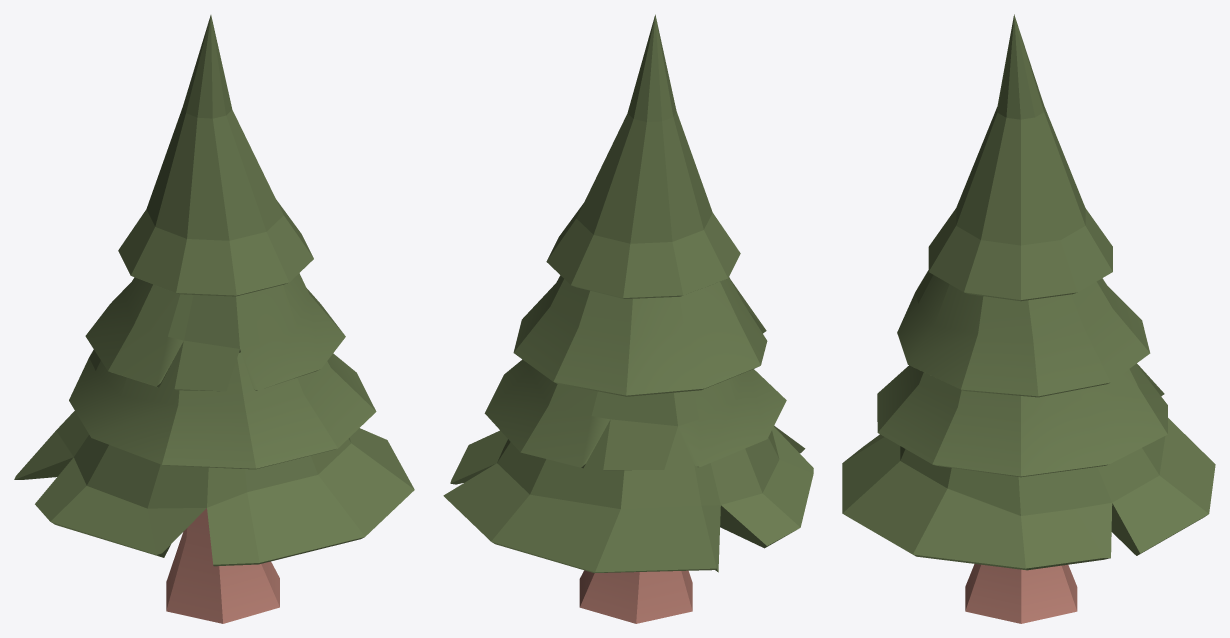
Rendered from pine_tree_2_v1.fbx.
3 renders of one model, left to right at view 1: azimuth 30°, elevation 25°; view 2: azimuth 150°, elevation 25°; view 3: azimuth 270°, elevation 25°, orthographic.
Parts seen in each view (by area): view 1: leaves_1, leaves_4, leaves_2, leaves_3, trunk; view 2: leaves_1, leaves_4, leaves_3, leaves_2, trunk; view 3: leaves_1, leaves_4, leaves_2, leaves_3, trunk.
Part boxes in pixels (<box>): leaves_1: <box>14,411,414,566</box>; leaves_4: <box>118,15,313,296</box>; leaves_2: <box>69,343,376,469</box>; leaves_3: <box>85,273,345,391</box>; trunk: <box>166,508,279,623</box>; leaves_1: <box>443,422,813,573</box>; leaves_4: <box>546,14,740,298</box>; leaves_3: <box>513,275,767,396</box>; leaves_2: <box>484,359,786,470</box>; trunk: <box>579,570,692,623</box>; leaves_1: <box>842,418,1215,570</box>; leaves_4: <box>928,14,1112,301</box>; leaves_2: <box>877,363,1167,477</box>; leaves_3: <box>897,270,1150,397</box>; trunk: <box>965,564,1077,623</box>.
Bounding box in the file's own units: 4.94 × 8.29 × 4.83.
